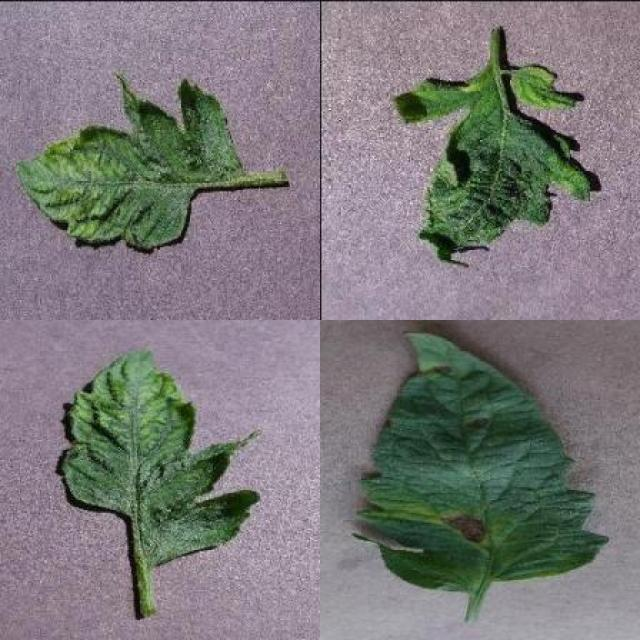Early Blight: (356, 328, 610, 592)
Mosaic Virus: (59, 341, 260, 566), (15, 71, 242, 252), (394, 63, 592, 270)
